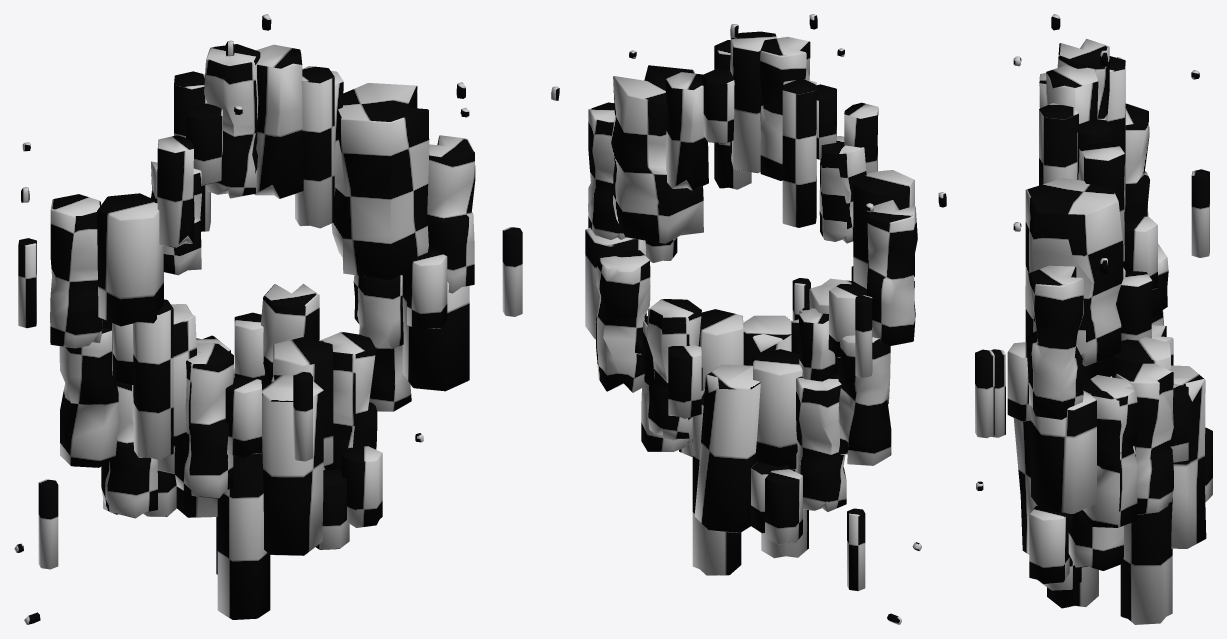
Rendered from streuner_asteroid_gate.obj.
The picture shows the model from 3 angles, left to right: view 1: azimuth 30°, elevation 25°; view 2: azimuth 150°, elevation 25°; view 3: azimuth 270°, elevation 25°; orthographic projection. The views are drawn at different scales.
Visible parts, largest first — view 1: lowpoly; view 2: lowpoly; view 3: lowpoly.
Part boxes in pixels (x1,y1,x2,y2): lowpoly: [14, 14, 522, 624]; lowpoly: [551, 14, 946, 624]; lowpoly: [975, 14, 1212, 624].
Size of the model in its own units: 38.73 by 49.83 by 18.59.
1 material, 1 textured.
